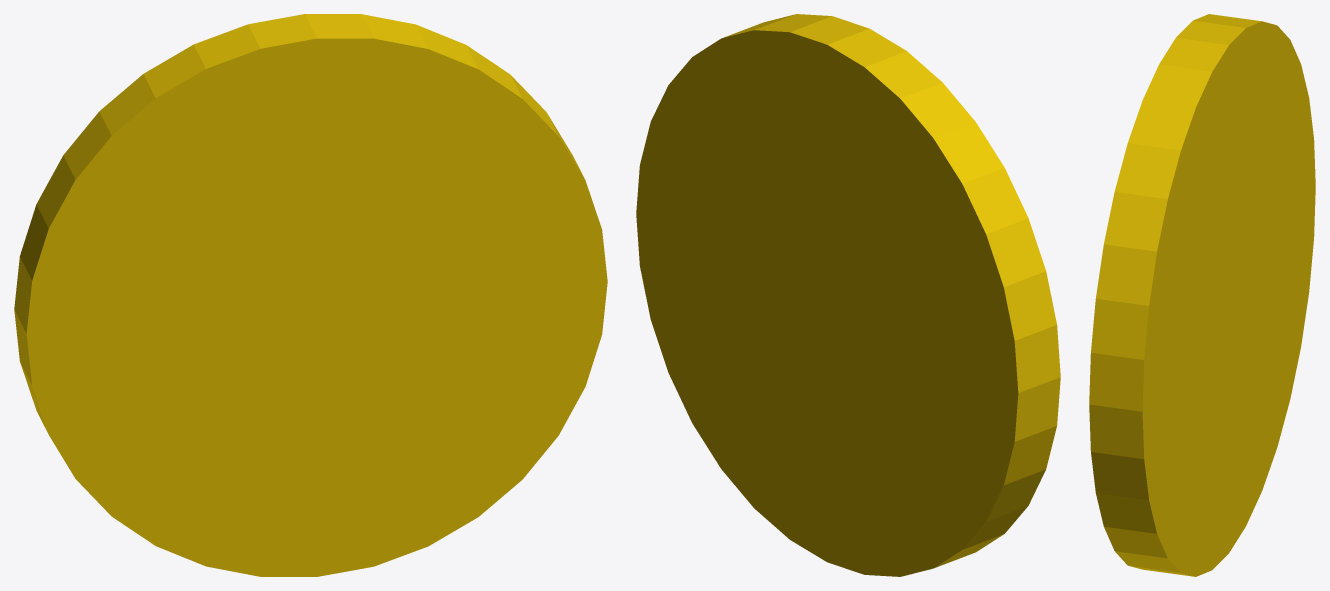
File: Coin.fbx
3 views of the same model, side by side, from view 1: azimuth 30°, elevation 25°; view 2: azimuth 150°, elevation 25°; view 3: azimuth 270°, elevation 25° (orthographic). The views are drawn at different scales.
Parts seen in each view (by area): view 1: Coin; view 2: Coin; view 3: Coin.
Part boxes in pixels (x1,y1,x2,y2): Coin: (14,14,607,576); Coin: (636,14,1060,576); Coin: (1089,14,1315,576).
Size of the model in its own units: 196 by 200 by 80.82.
